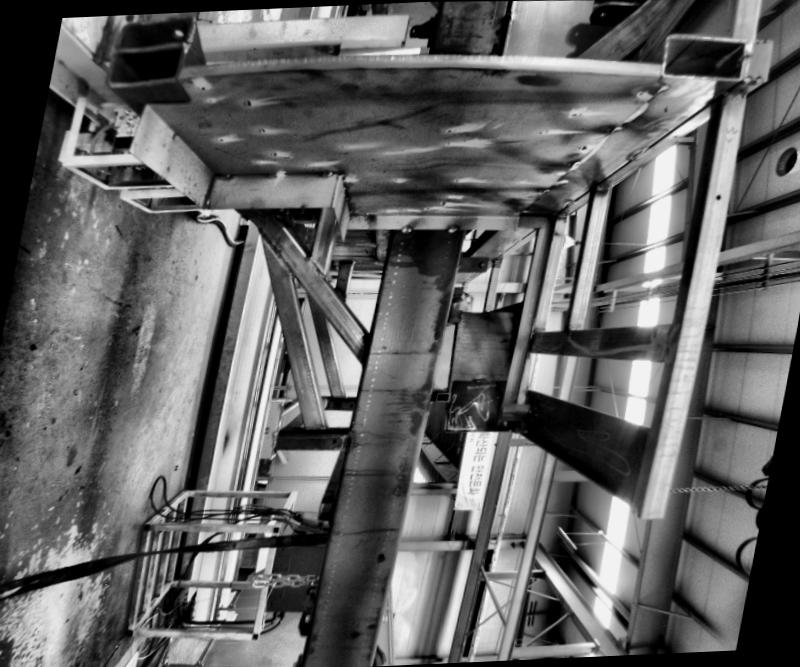hole: (711, 191, 722, 202), (375, 551, 382, 558), (329, 438, 336, 444), (628, 341, 634, 347)
welding: (256, 166, 283, 182), (213, 166, 233, 180), (441, 222, 460, 233), (398, 222, 410, 234), (313, 169, 332, 176)
